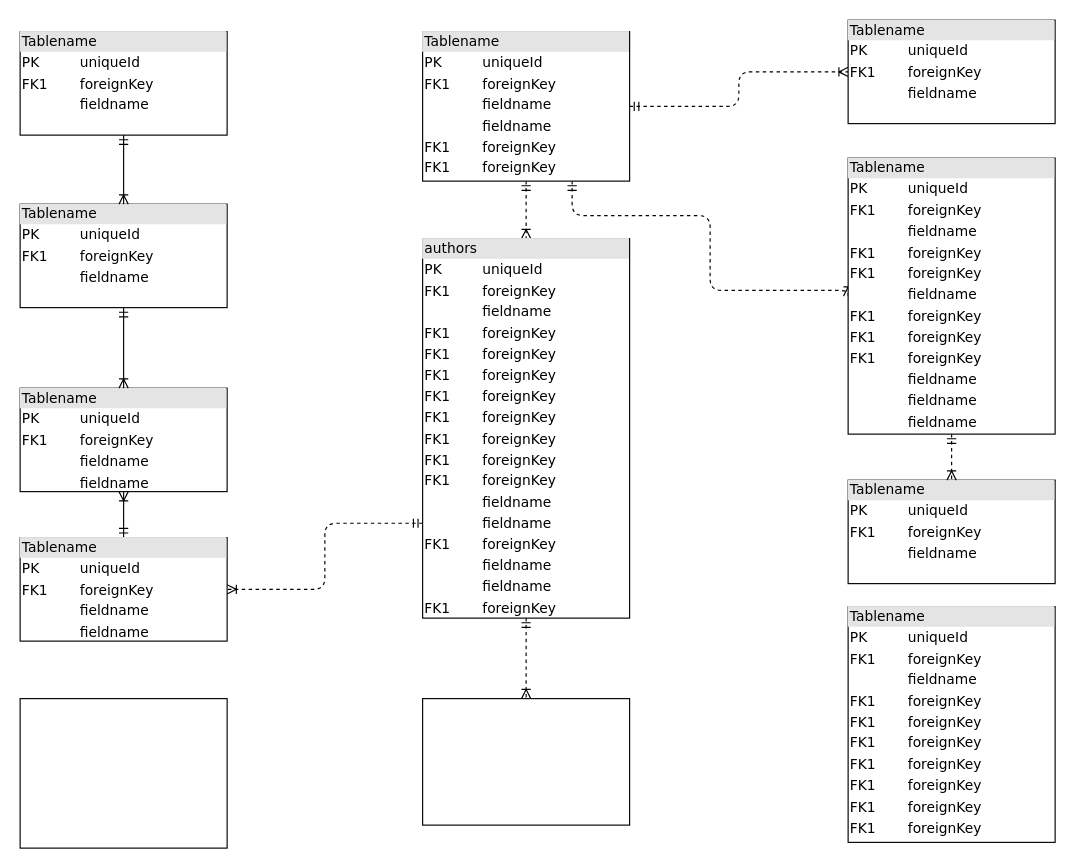
The diagram is 1075 pixels wide and 868 high, and some of its shapes have lost their labels. Here are the shapes that lost their labels. From the top down, the centre of each, then its label:
At (x=123, y=772): "Tablename PK uniqueId FK1 foreignKey fieldname fieldname fieldname fieldname".
At (x=525, y=761): "Tablename PK uniqueId FK1 foreignKey fieldname fieldname FK1 foreignKey".
